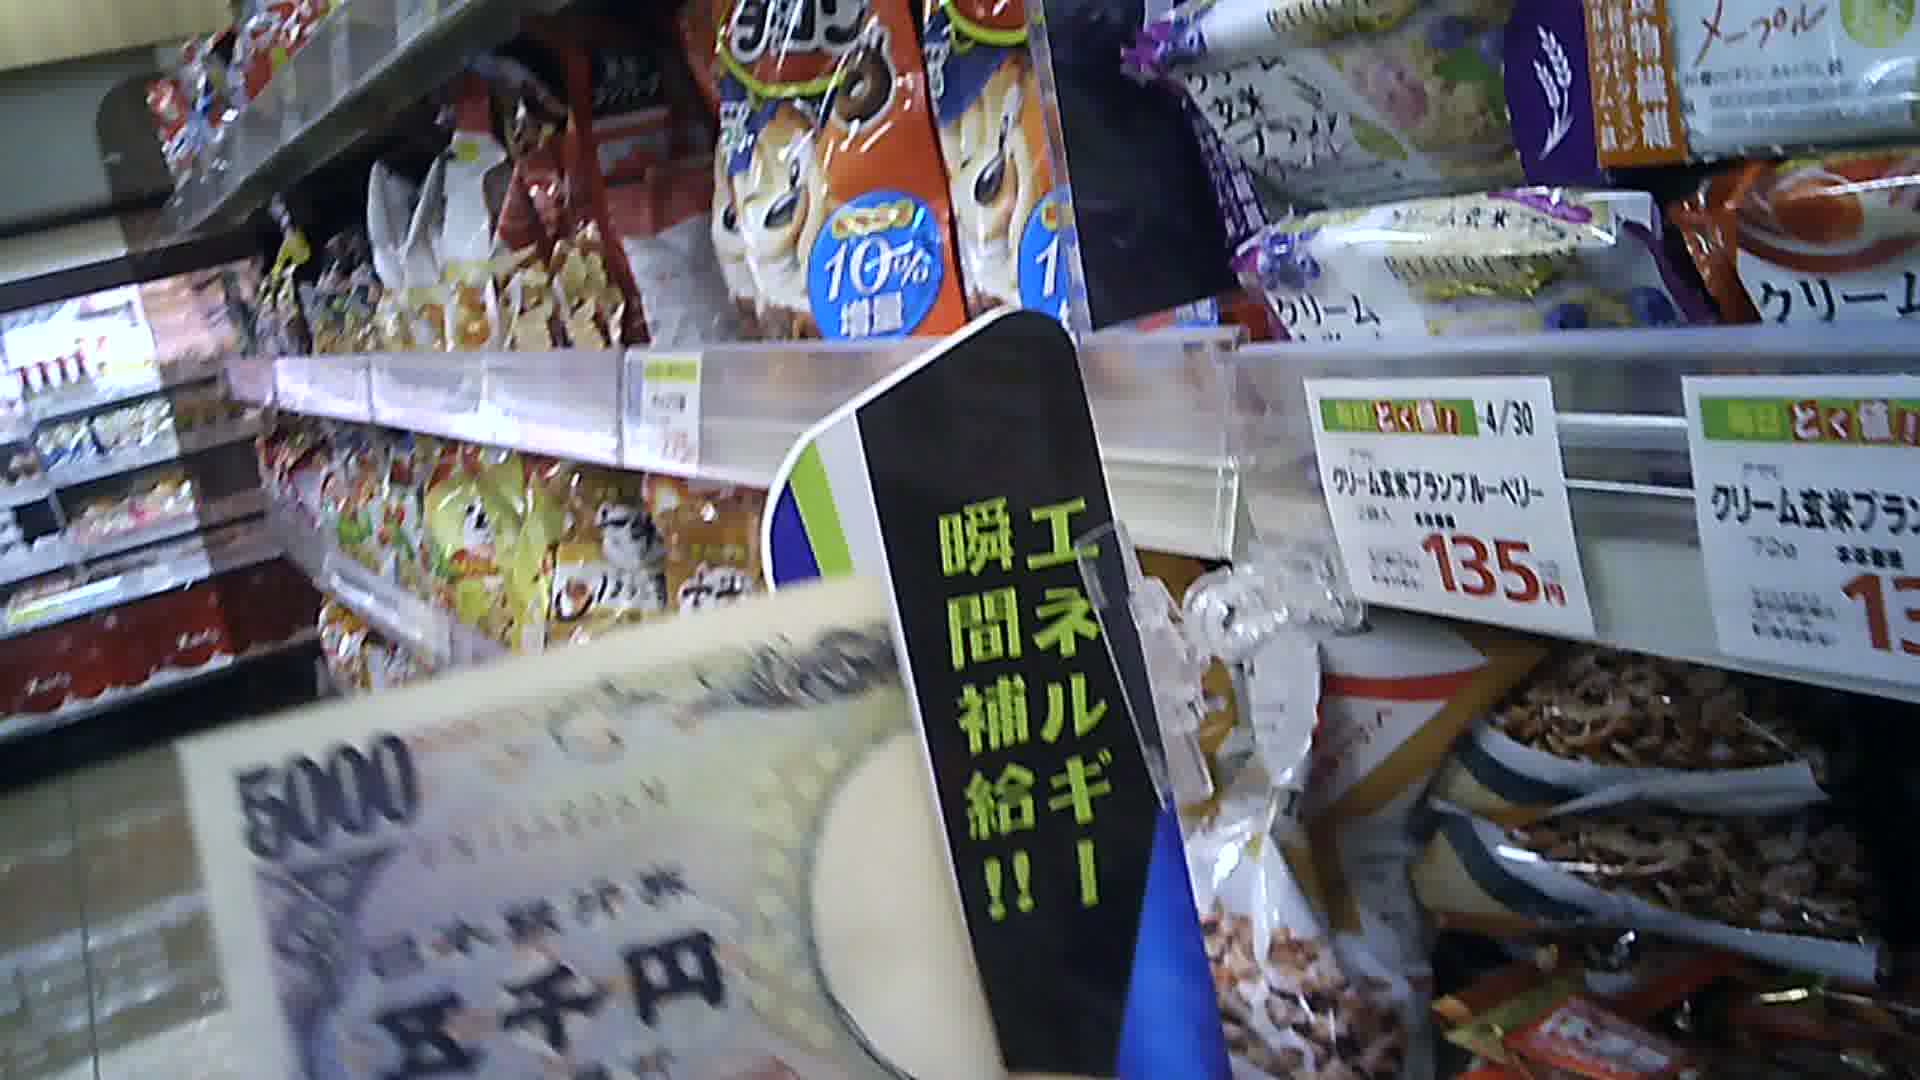5,000 Yen: (174, 595, 994, 1069)
